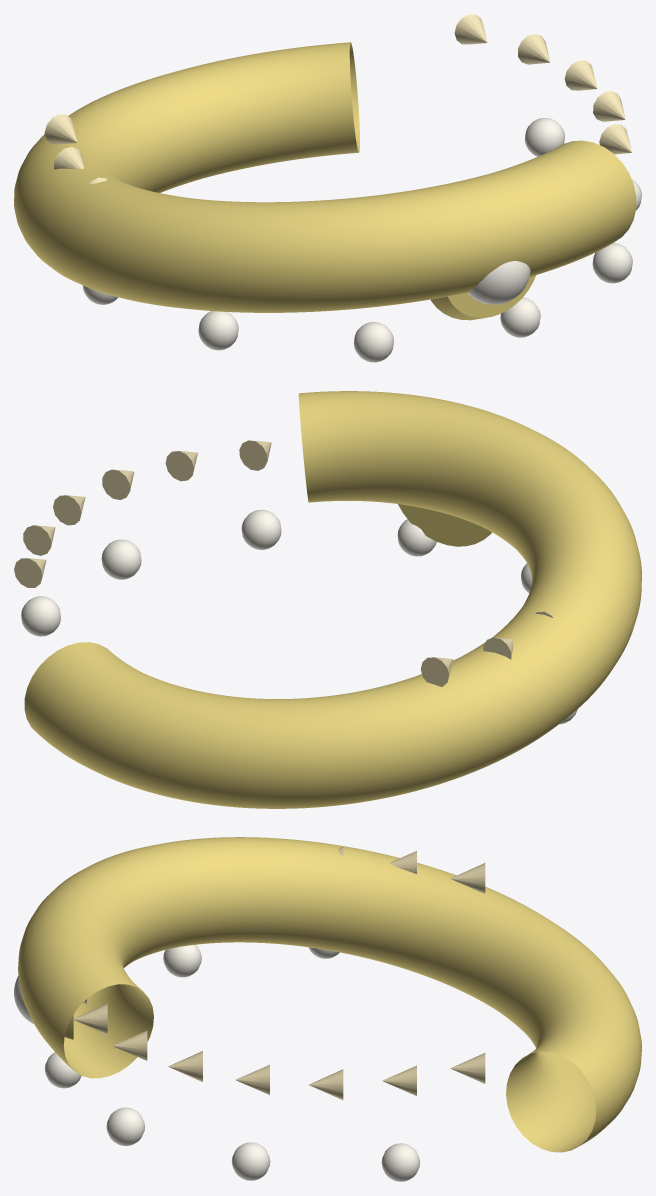
File: devi-temple-choker.glb
3 views of the same model, one above another, from view 1: azimuth 30°, elevation 25°; view 2: azimuth 150°, elevation 25°; view 3: azimuth 270°, elevation 25° (orthographic). The views are drawn at different scales.
Visible parts, largest first — view 1: devi-temple-choker; view 2: devi-temple-choker; view 3: devi-temple-choker.
Boxes of the visible parts, x1,y1,x2,y2 form: devi-temple-choker: (14, 14, 641, 362); devi-temple-choker: (14, 391, 641, 808); devi-temple-choker: (14, 837, 641, 1181).
Size of the model in its own units: 2.36 by 0.7807 by 2.49.
